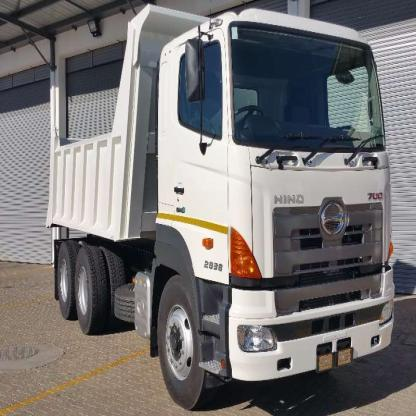dump_truck: (28, 6, 398, 409)
